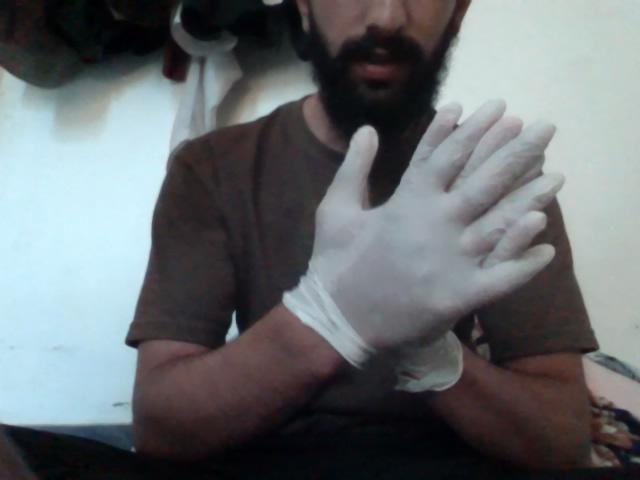gloves: (287, 104, 572, 391)
